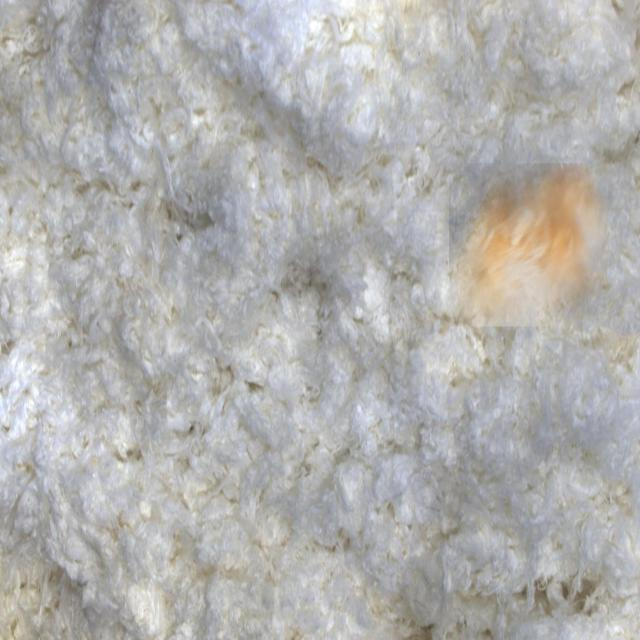dust: (449, 164, 609, 327)
